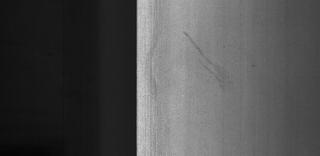water spot: (178, 28, 260, 96)
